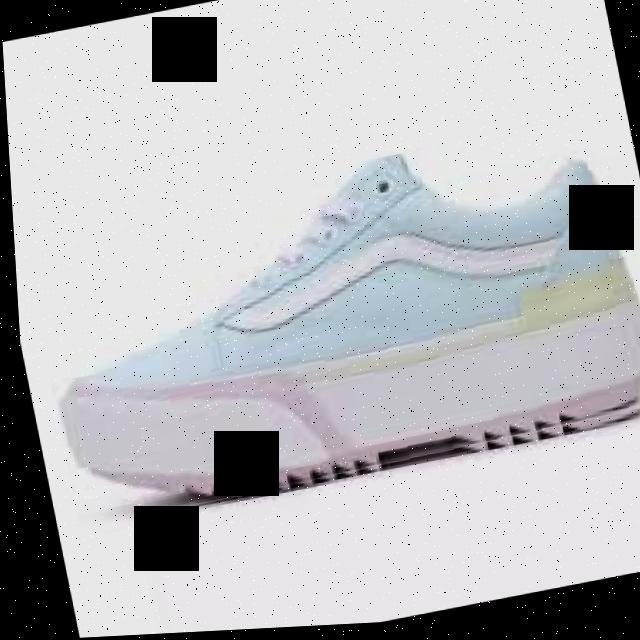shoe: (12, 120, 640, 532)
